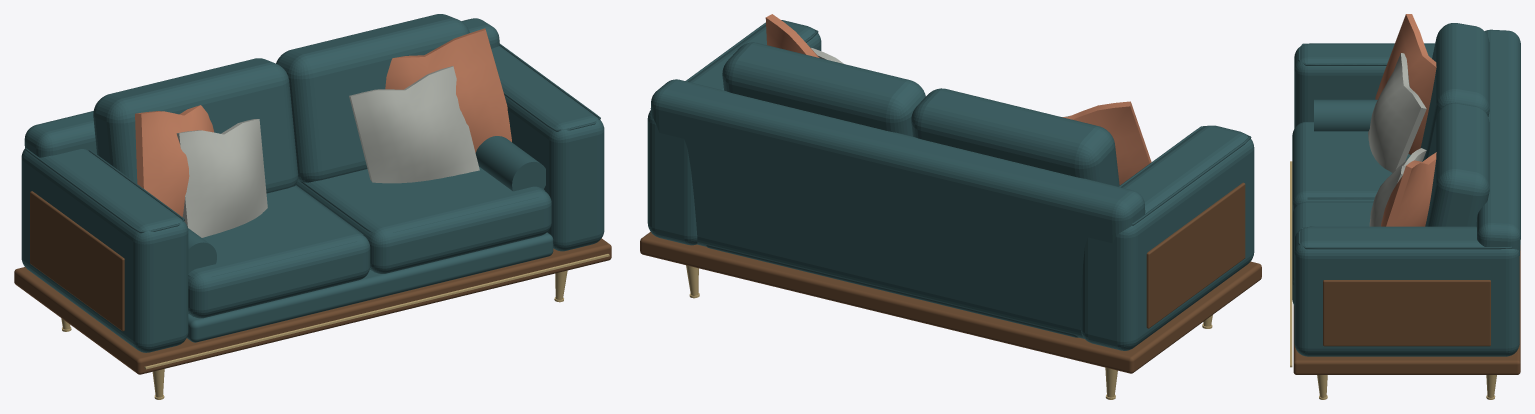
The model's file is milano-teal-2.glb.
3 views of the same model, side by side, from view 1: azimuth 30°, elevation 25°; view 2: azimuth 150°, elevation 25°; view 3: azimuth 270°, elevation 25° (orthographic). The views are drawn at different scales.
Bounding box in the file's own units: 1.7 × 0.8344 × 0.7932.
